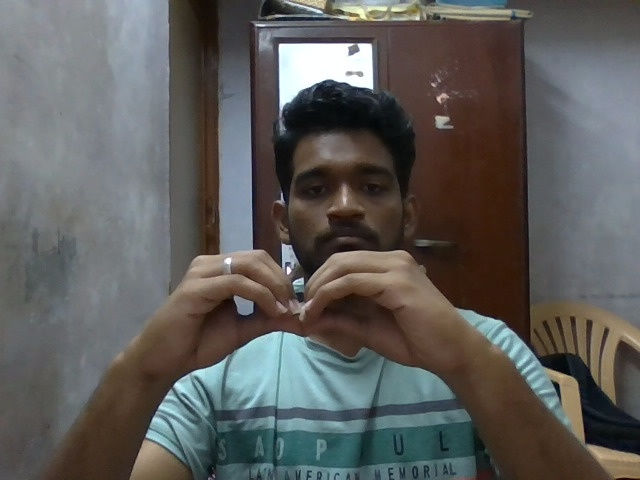B: (91, 243, 517, 405)
